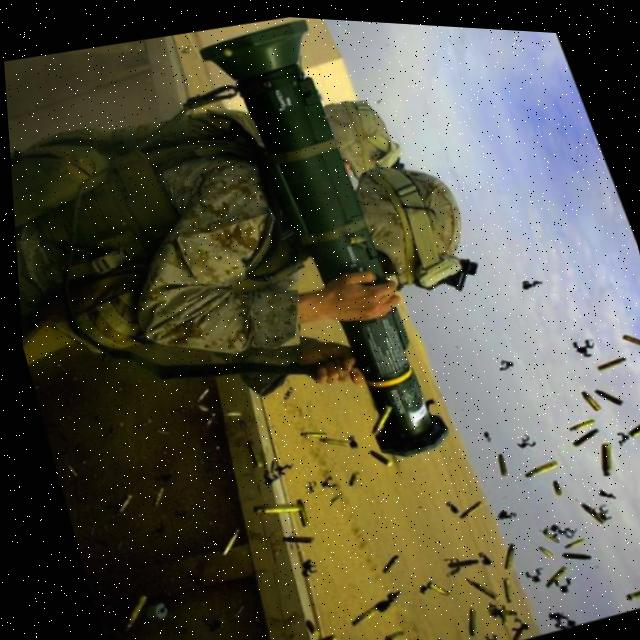rocket: (191, 9, 471, 493)
